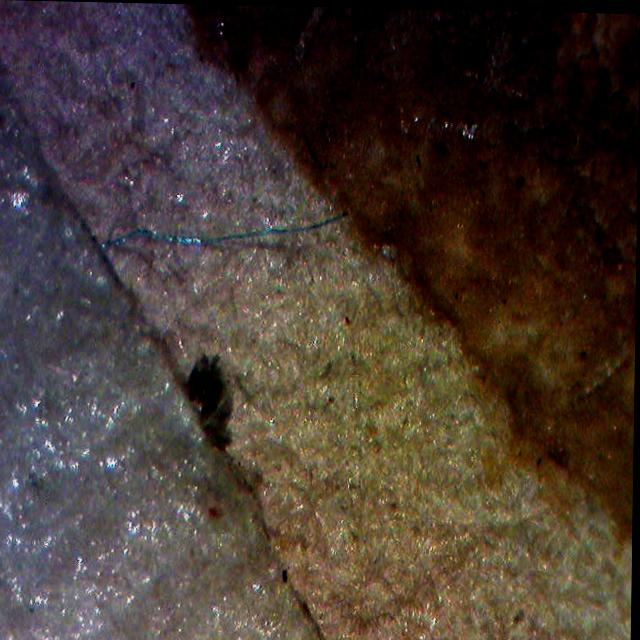microplastic: (98, 204, 347, 256)
